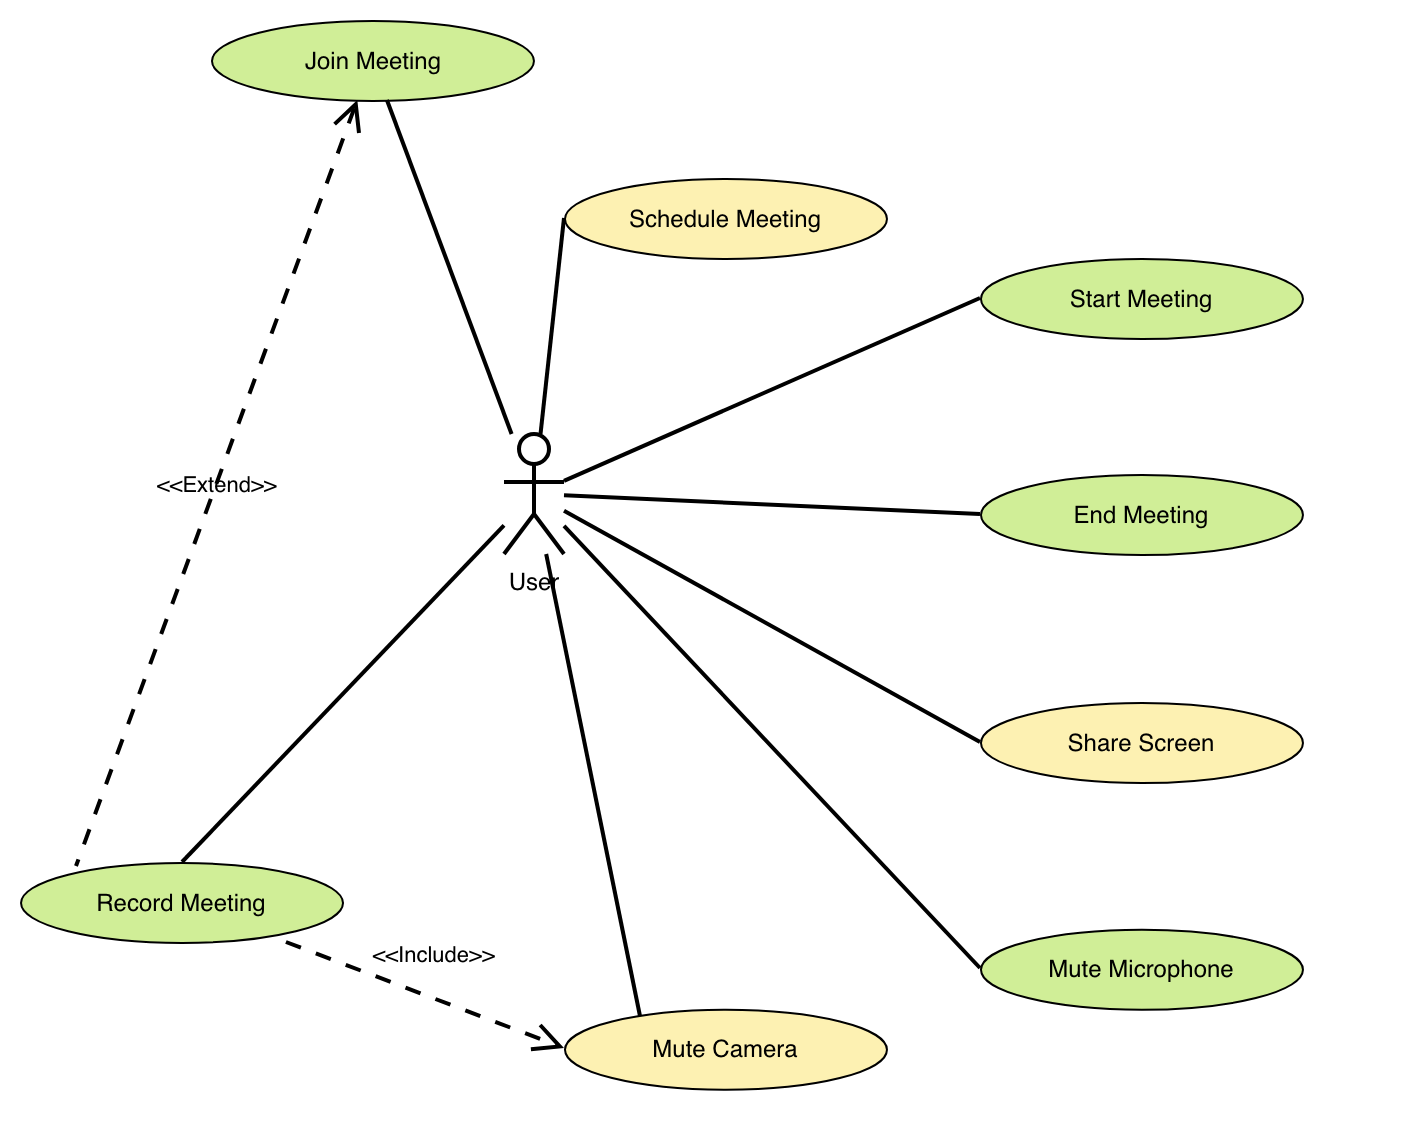actor: (505, 430, 567, 558)
association: (71, 100, 366, 869), (564, 522, 980, 970), (180, 519, 507, 859), (562, 506, 980, 743), (560, 294, 981, 481), (541, 551, 643, 1013), (383, 100, 516, 436), (282, 936, 564, 1058), (561, 487, 983, 533), (532, 217, 568, 431)
text: (623, 198, 842, 241), (1040, 950, 1243, 986), (1060, 281, 1224, 323), (301, 39, 452, 84), (1060, 496, 1216, 538), (1058, 722, 1220, 761), (644, 1030, 807, 1067), (91, 887, 277, 920), (363, 939, 504, 976), (150, 469, 287, 499), (509, 567, 564, 599)
use_case: (976, 698, 1306, 787), (209, 16, 539, 104), (980, 927, 1306, 1014), (562, 176, 891, 262), (562, 1007, 891, 1094), (980, 257, 1305, 343), (978, 472, 1306, 558), (19, 860, 343, 945)
